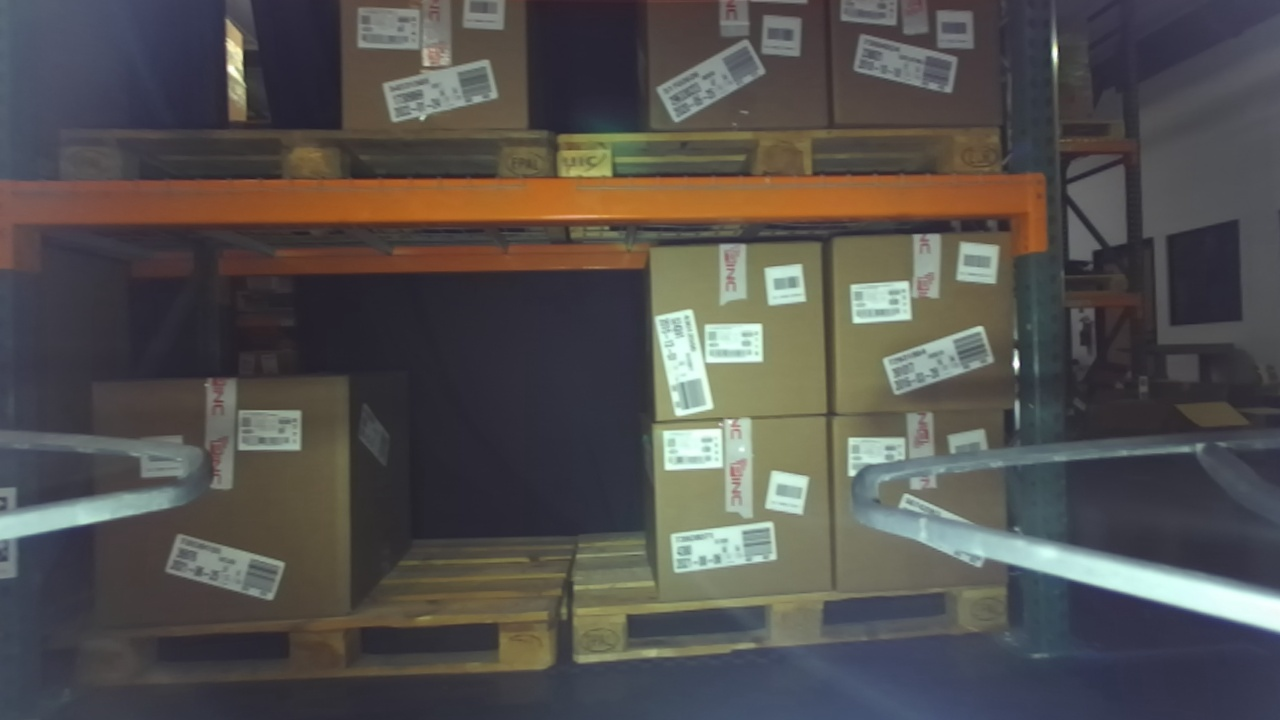box: (70, 357, 376, 643), (800, 211, 1039, 426), (621, 227, 848, 445), (627, 407, 858, 619), (804, 390, 1025, 608), (326, 1, 543, 156), (617, 1, 840, 146), (813, 1, 1028, 143)
